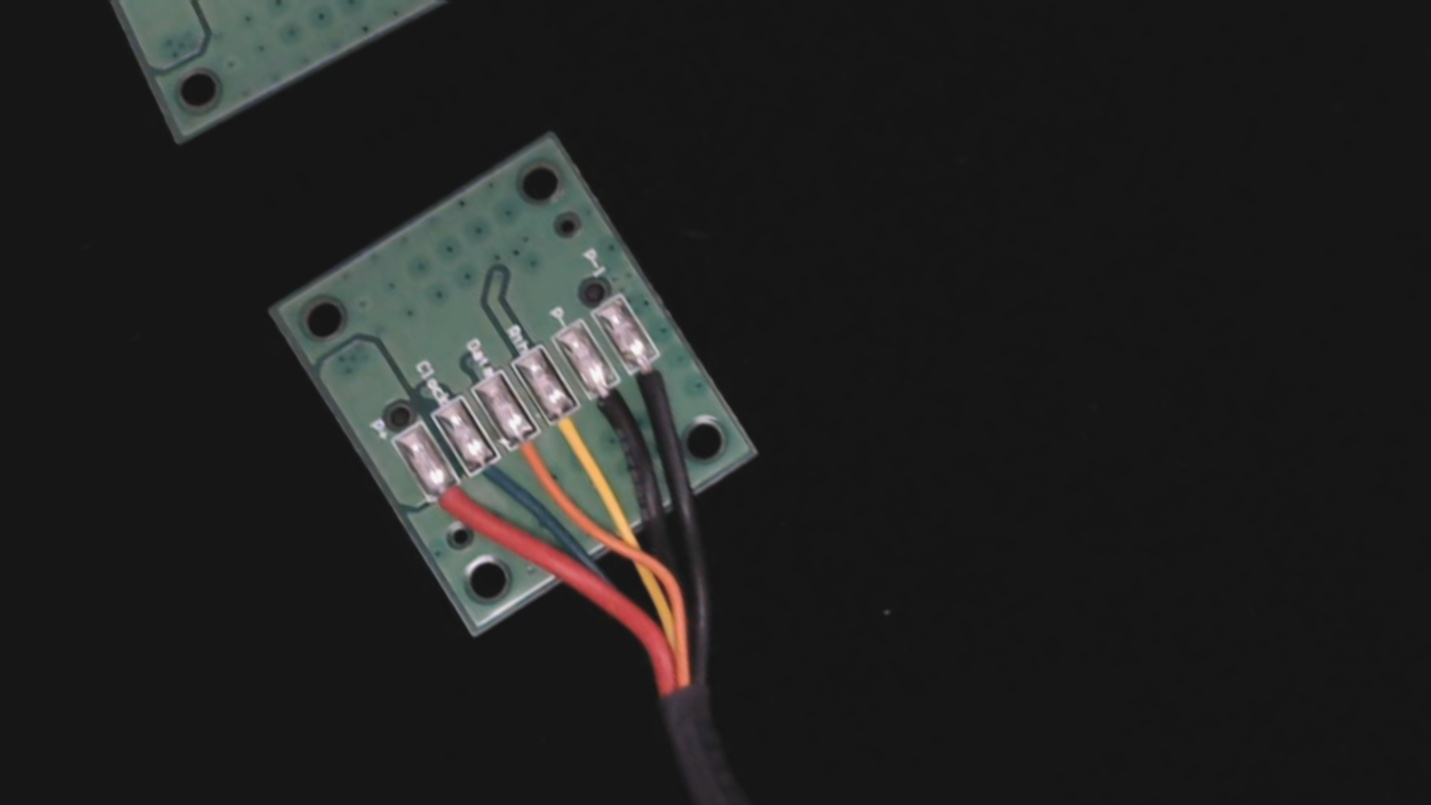Black: (572, 361, 659, 457)
Black1: (614, 337, 696, 427)
Green: (451, 435, 527, 517)
Orange: (492, 411, 576, 505)
Red: (413, 460, 489, 541)
Yellow: (531, 384, 620, 482)
